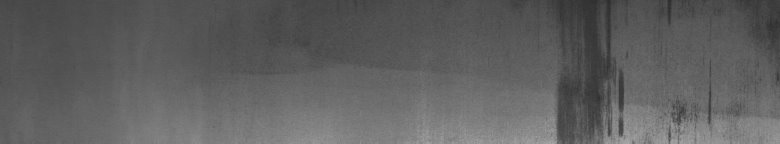ka: (545, 4, 776, 136)
